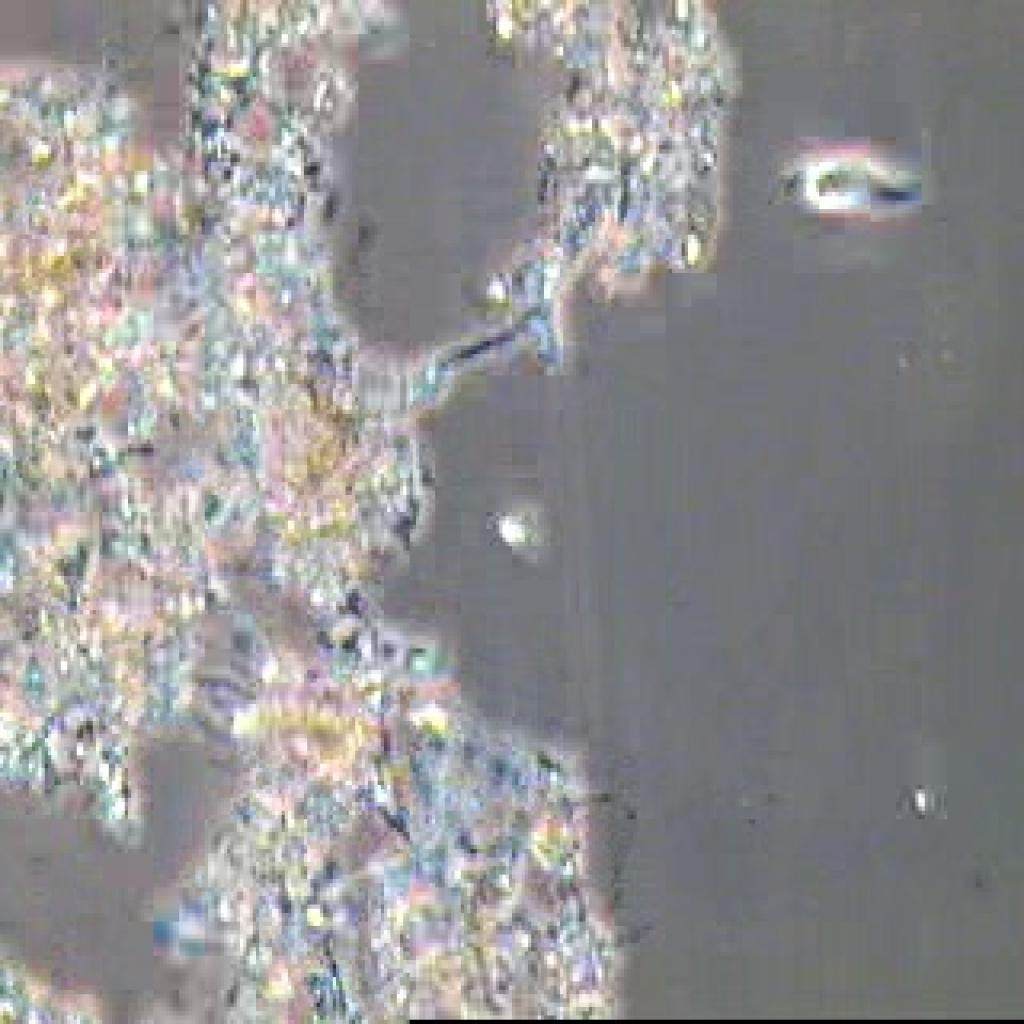Pristina: (771, 126, 944, 245)
